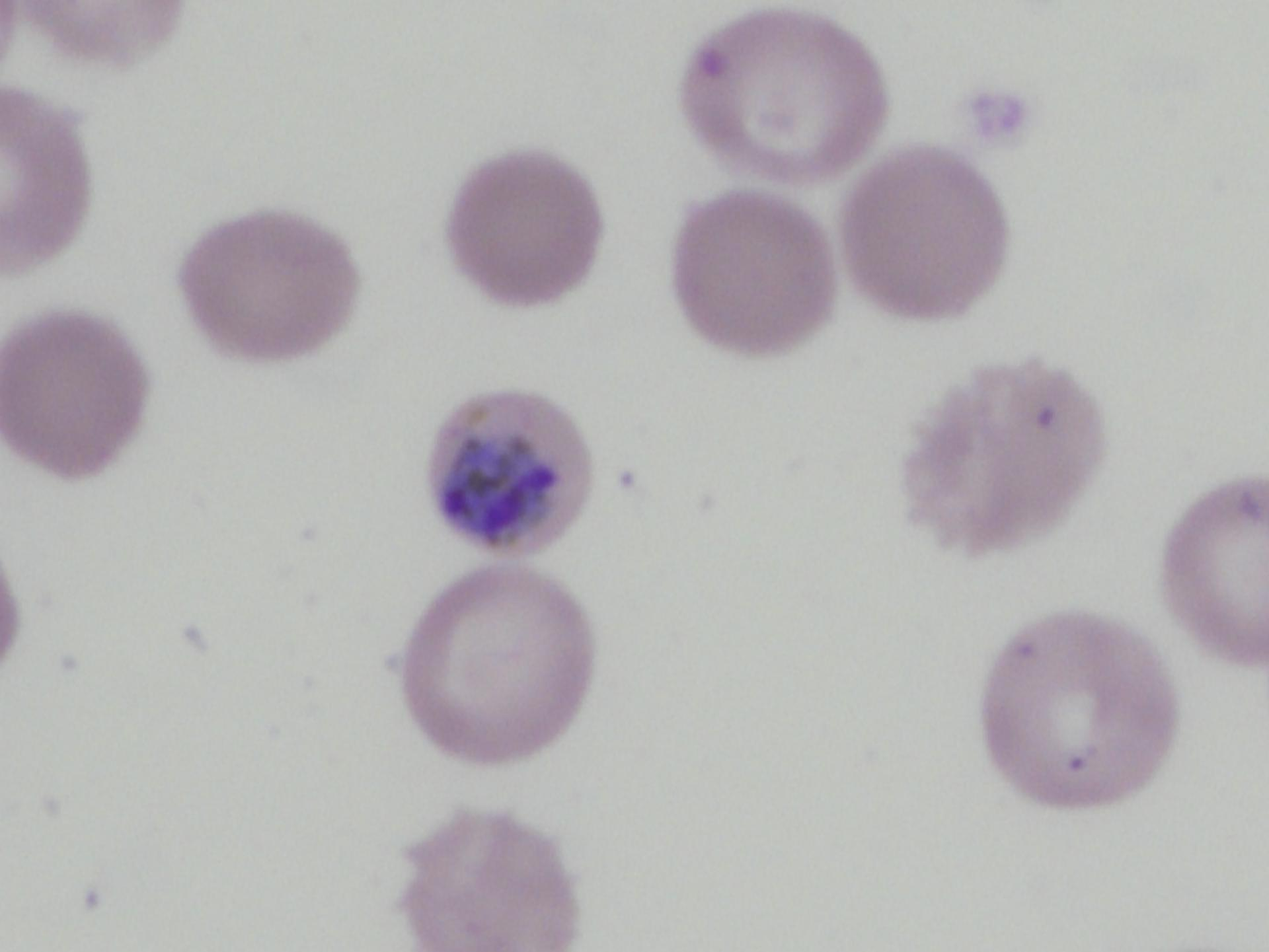Infected: (425, 391, 593, 567)
Uninfected: (908, 351, 1103, 560), (989, 606, 1175, 814), (401, 562, 586, 764), (674, 16, 890, 178), (846, 144, 1003, 323), (185, 212, 357, 363), (405, 802, 577, 952), (679, 192, 834, 348), (449, 150, 602, 307), (2, 313, 145, 480), (1163, 470, 1269, 674), (0, 80, 93, 288)
